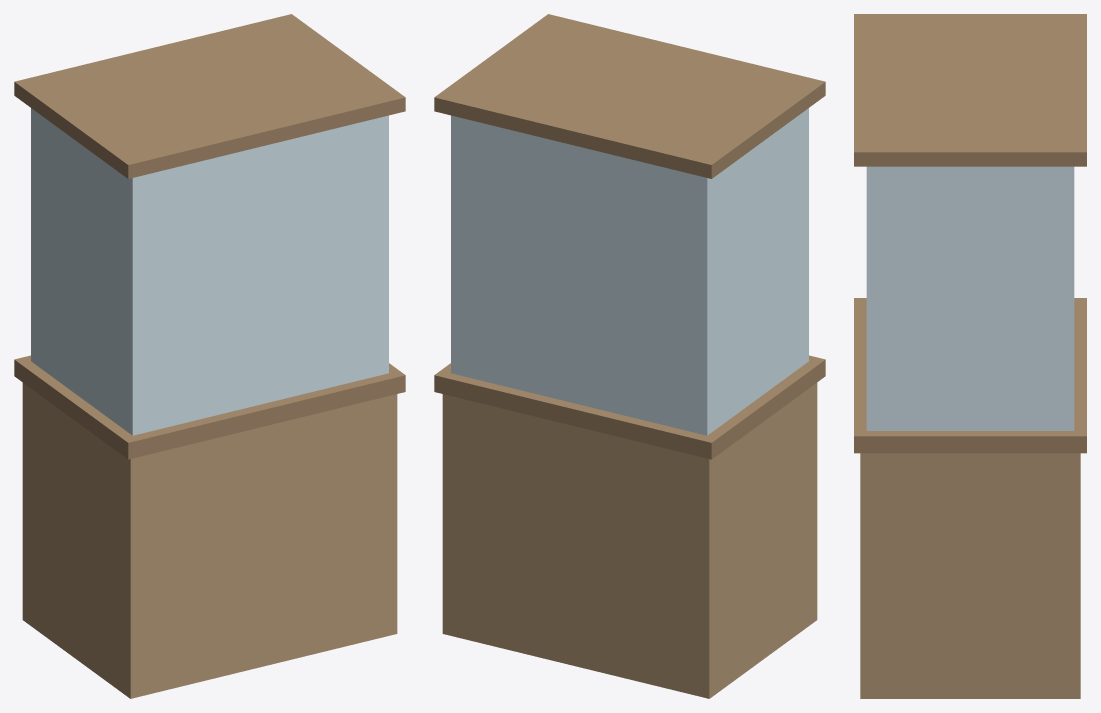
The model's file is VDisplayCase.fbx.
3 renders of one model, left to right at view 1: azimuth 30°, elevation 25°; view 2: azimuth 150°, elevation 25°; view 3: azimuth 270°, elevation 25°, orthographic. The views are drawn at different scales.
Parts seen in each view (by area): view 1: VDisplayCase; view 2: VDisplayCase; view 3: VDisplayCase.
Part boxes in pixels (left/top/right/bottom): VDisplayCase: left=14, top=14, right=405, bottom=698; VDisplayCase: left=434, top=14, right=825, bottom=698; VDisplayCase: left=854, top=14, right=1086, bottom=698.
Bounding box in the file's own units: 1.04 × 1.92 × 0.74.
